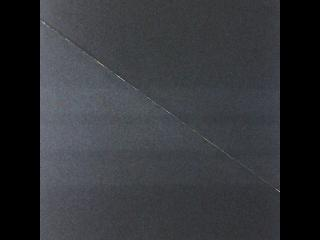crack: (40, 18, 281, 194)
